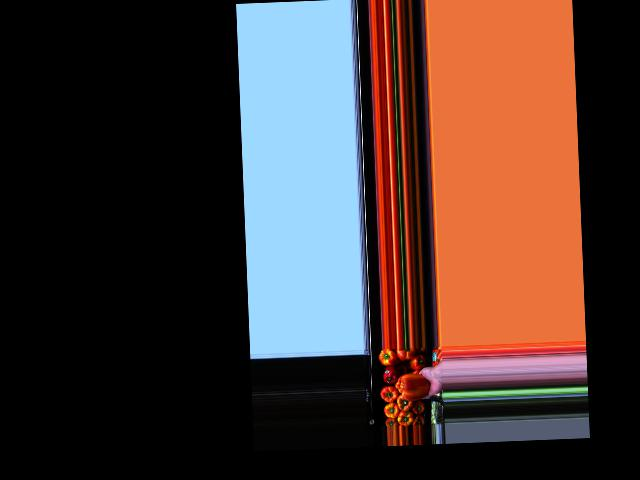bell_pepper: (408, 352, 424, 371)
